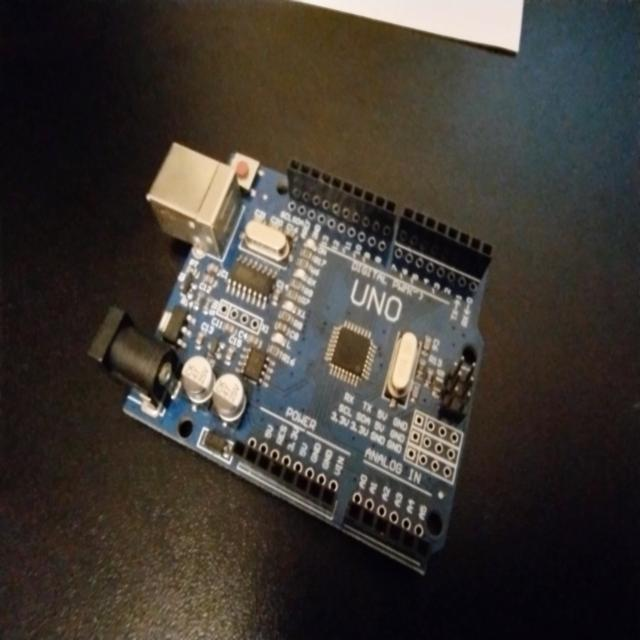arduino: (122, 102, 492, 574)
